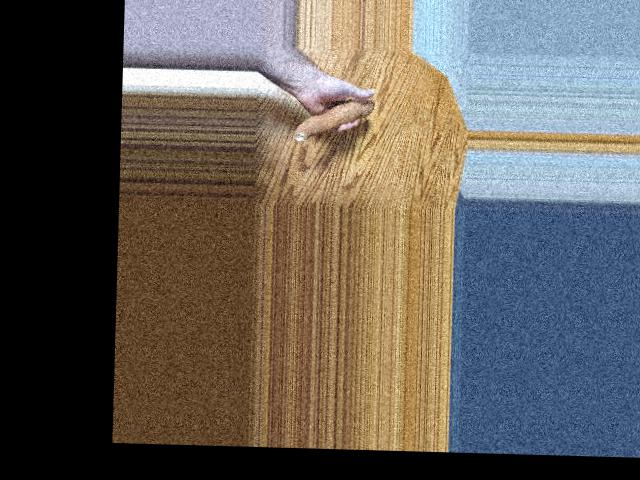sweet_potato: (292, 99, 378, 142)
